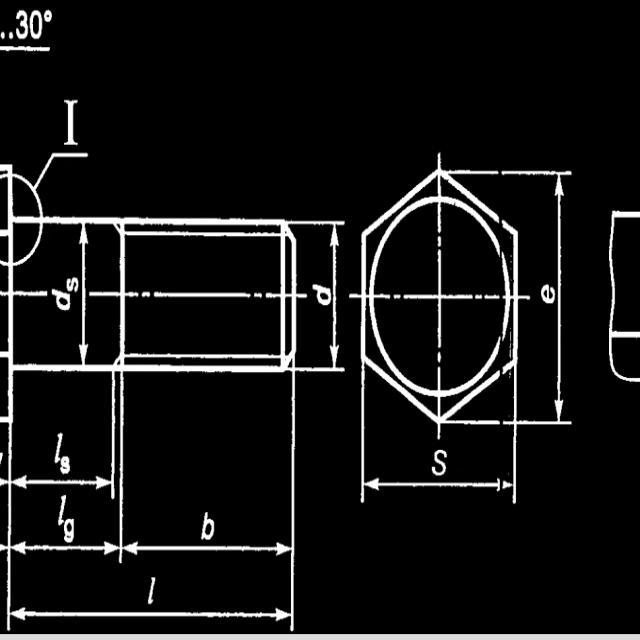marking_line: (8, 604, 292, 630), (551, 182, 565, 418), (124, 539, 287, 558), (12, 471, 113, 497), (366, 477, 516, 492), (328, 226, 342, 363), (78, 224, 90, 368), (13, 541, 118, 557)
numeric: (17, 7, 46, 41)
